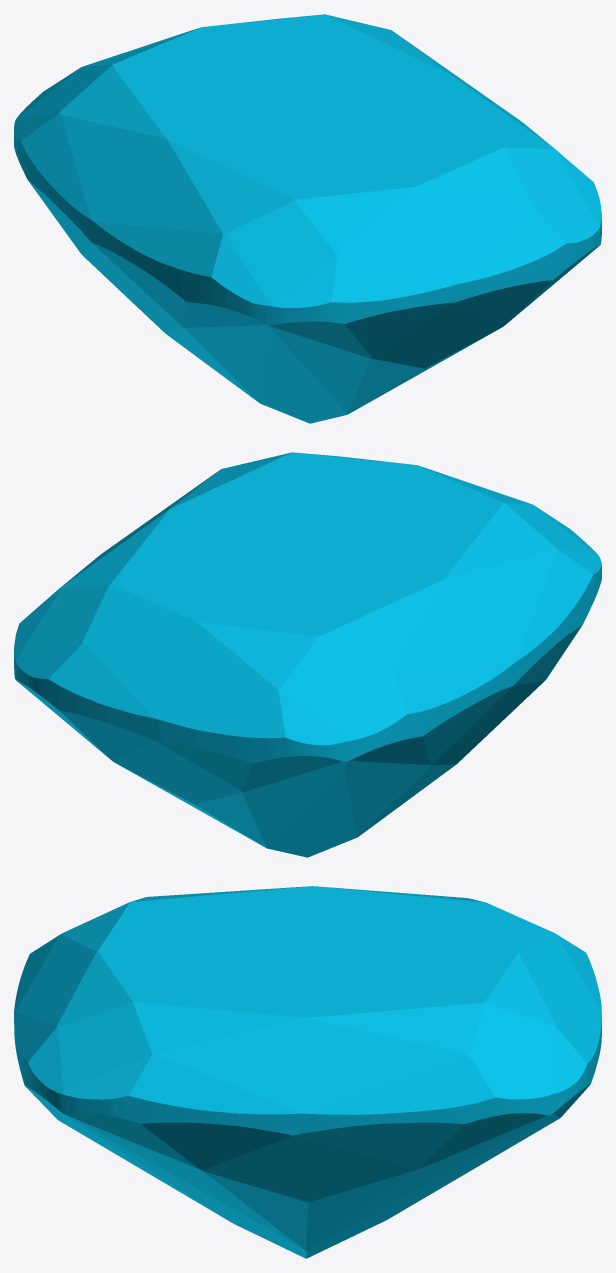
Rendered from Head_Hidden Halo_Elongated Cushion_0.75ct_Diamond.glb.
3 views of the same model, one above another, from view 1: azimuth 30°, elevation 25°; view 2: azimuth 150°, elevation 25°; view 3: azimuth 270°, elevation 25° (orthographic). The views are drawn at different scales.
Size of the model in its own units: 0.00457 by 0.00326 by 0.00568.
